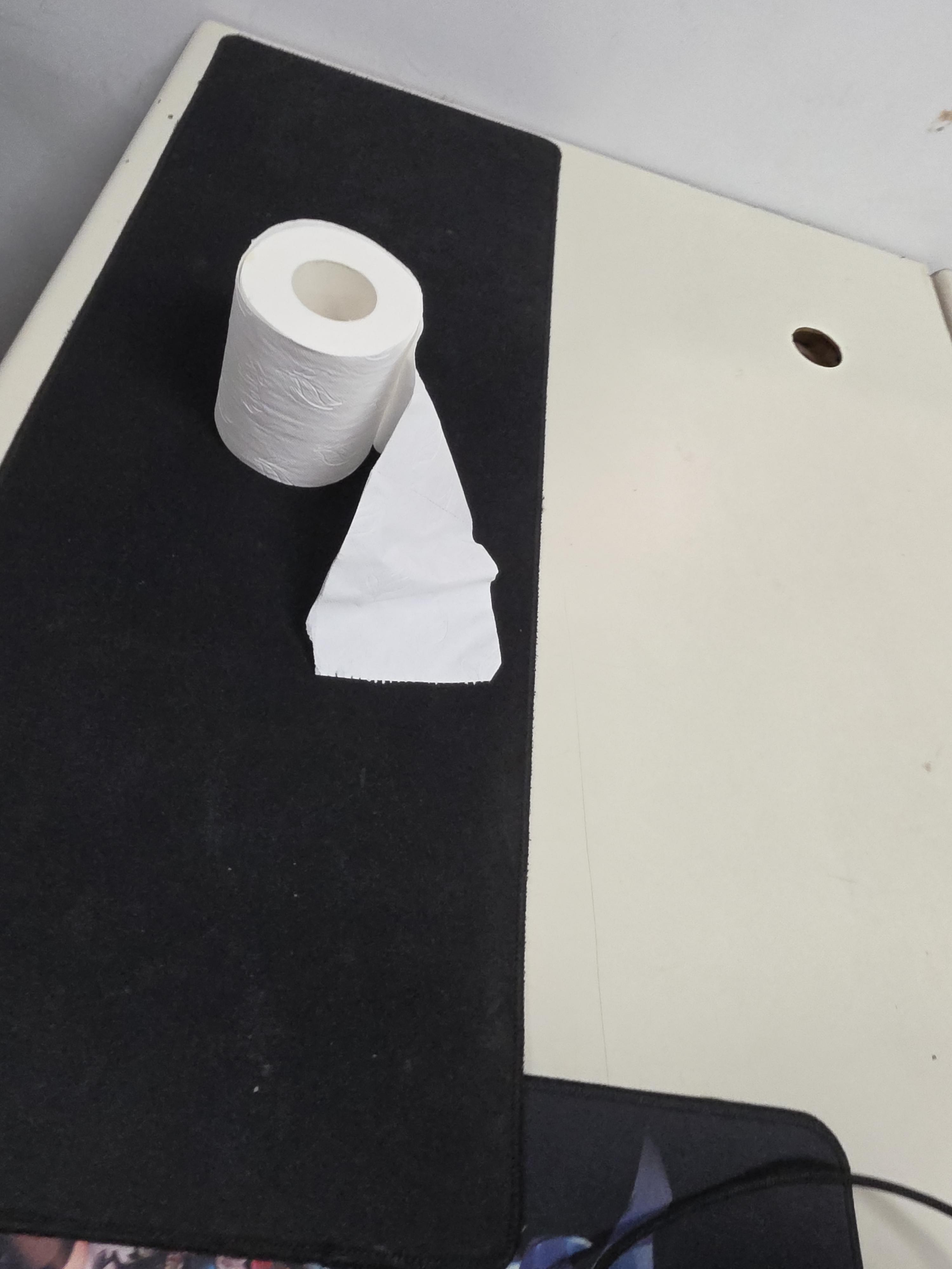tissue: (215, 219, 502, 683)
